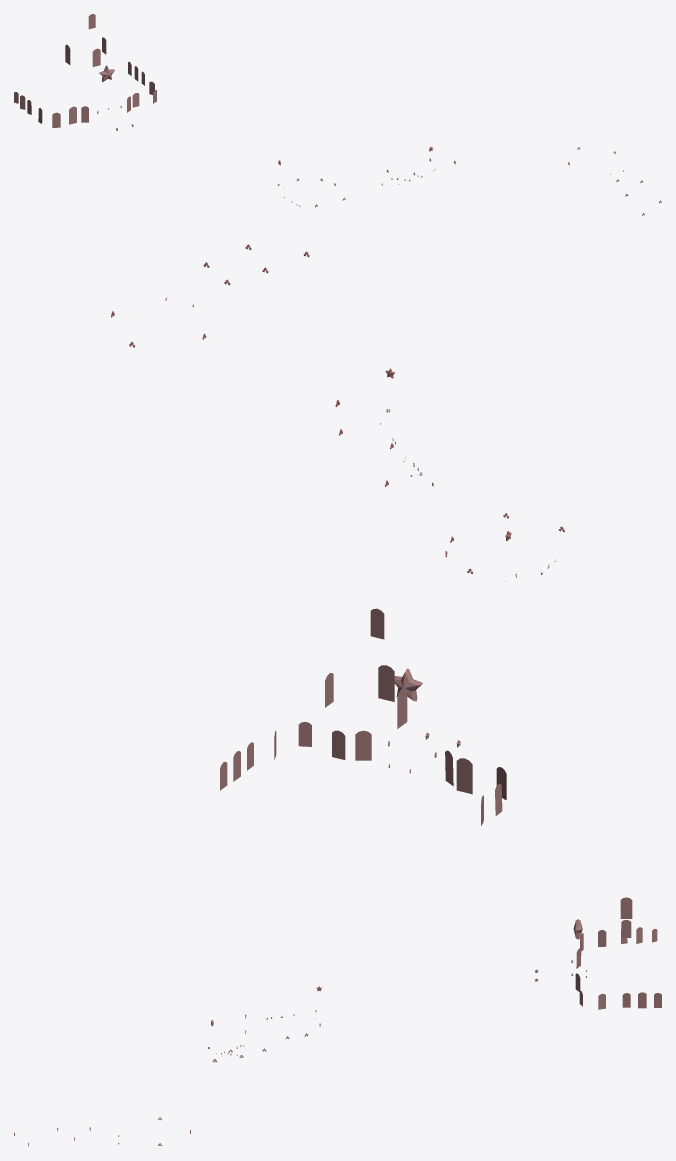
The model's file is PeachCastleGardenPlanetBloom.dae.
The picture shows the model from 3 angles, top to bottom: view 1: azimuth 30°, elevation 25°; view 2: azimuth 150°, elevation 25°; view 3: azimuth 270°, elevation 25°; orthographic projection. The views are drawn at different scales.
Visible parts, largest first — view 1: m0; view 2: m0; view 3: m0.
Boxes of the visible parts, <box> form: m0: <box>14,14,661,215</box>; m0: <box>111,244,564,825</box>; m0: <box>14,897,661,1146</box>.
Bounding box in the file's own units: 24991 × 6166 × 31263.
